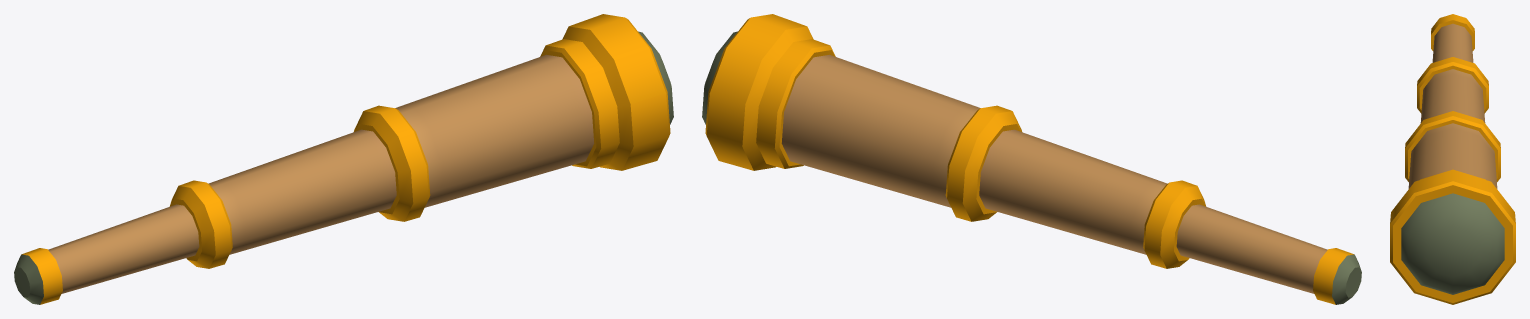
File: Cannocchiale.fbx
3 views of the same model, side by side, from view 1: azimuth 30°, elevation 25°; view 2: azimuth 150°, elevation 25°; view 3: azimuth 270°, elevation 25° (orthographic). The views are drawn at different scales.
Parts seen in each view (by area): view 1: cannocchiale; view 2: cannocchiale; view 3: cannocchiale.
Part boxes in pixels (x1,y1,x2,y2): cannocchiale: (14, 14, 673, 304); cannocchiale: (702, 14, 1361, 304); cannocchiale: (1390, 14, 1515, 304).
Size of the model in its own units: 0.6869 by 0.1489 by 0.1395.
